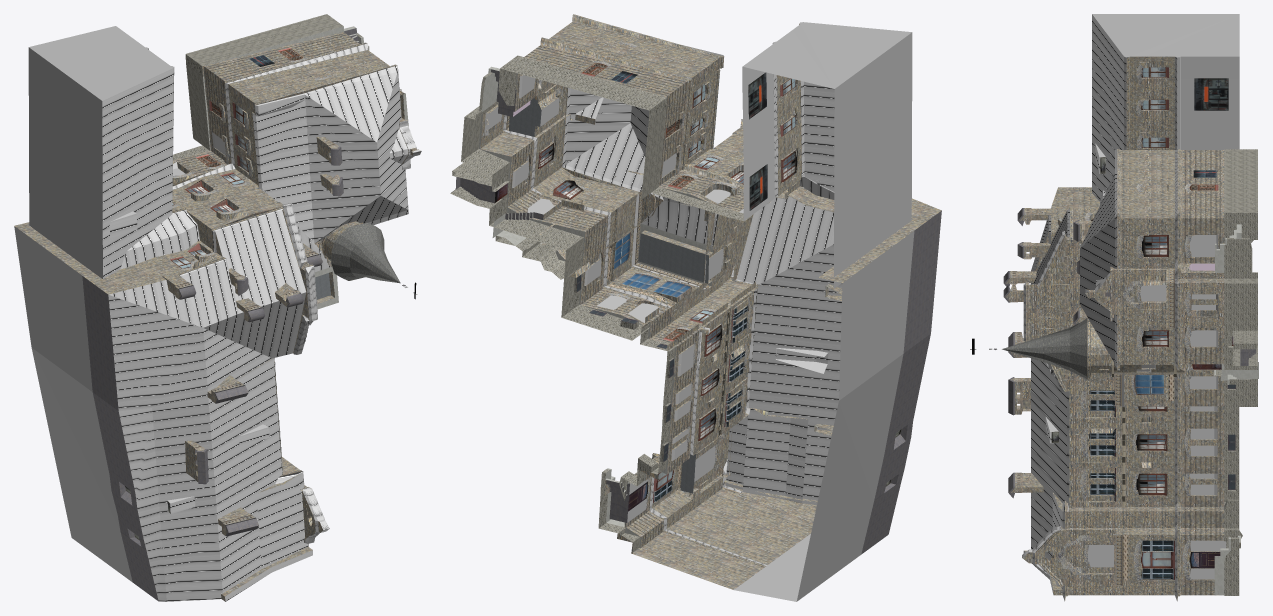
Rendered from Uus_19-origo.obj.
3 views of the same model, side by side, from view 1: azimuth 30°, elevation 25°; view 2: azimuth 150°, elevation 25°; view 3: azimuth 270°, elevation 25° (orthographic). The views are drawn at different scales.
Parts seen in each view (by area): view 1: Uus_19, xxx; view 2: Uus_19, xxx; view 3: Uus_19, xxx.
Boxes of the visible parts, left/top/right/bottom form: Uus_19: left=14, top=14, right=421, bottom=601; xxx: left=14, top=26, right=173, bottom=582; Uus_19: left=450, top=14, right=941, bottom=589; xxx: left=734, top=22, right=914, bottom=601; Uus_19: left=970, top=14, right=1258, bottom=601; xxx: left=1092, top=14, right=1239, bottom=57.
Bounding box in the file's own units: 35.38 × 46 × 24.14.
